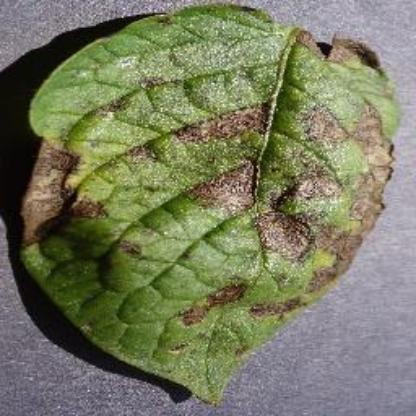Early-Blight: (13, 0, 401, 406)
